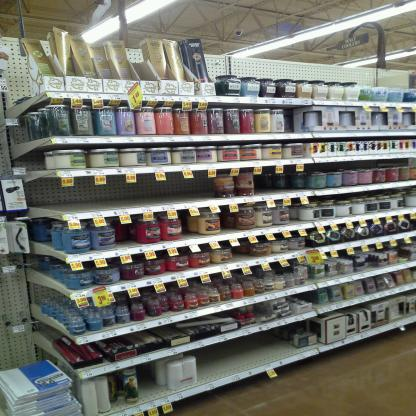Void: (33, 178, 207, 197), (140, 366, 156, 399), (198, 348, 281, 354), (257, 174, 283, 189), (236, 246, 247, 258)
